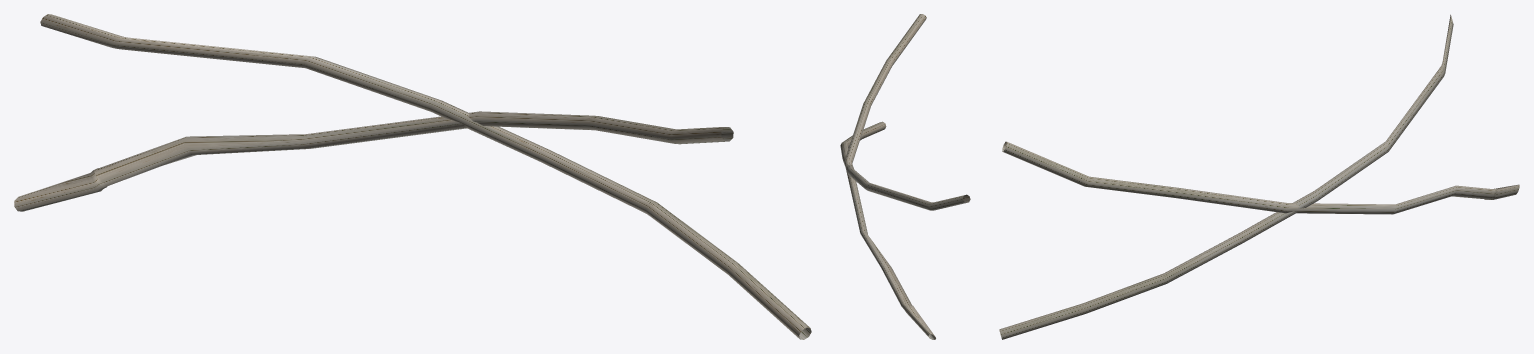
File: sphere.005_lev3.glb
3 views of the same model, side by side, from view 1: azimuth 30°, elevation 25°; view 2: azimuth 150°, elevation 25°; view 3: azimuth 270°, elevation 25° (orthographic). The views are drawn at different scales.
Parts seen in each view (by area): view 1: sphere.005_lev3; view 2: sphere.005_lev3; view 3: sphere.005_lev3.
Part boxes in pixels (left/top/right/bottom): sphere.005_lev3: left=14, top=14, right=811, bottom=339; sphere.005_lev3: left=840, top=14, right=970, bottom=339; sphere.005_lev3: left=999, top=14, right=1519, bottom=339.
Bounding box in the file's own units: 0.8571 × 0.4322 × 1.11.
Materials: 1 (1 with a texture image).
